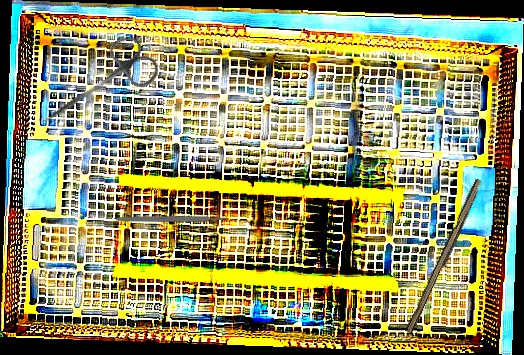Iris Scissors: (30, 29, 165, 146)
Scalpel Handle: (404, 177, 486, 336), (116, 216, 229, 222)
